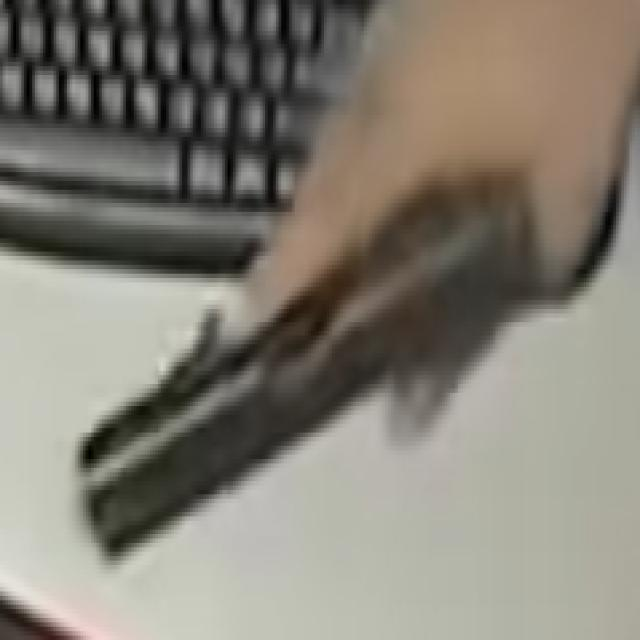FPistol: (75, 151, 543, 572)
